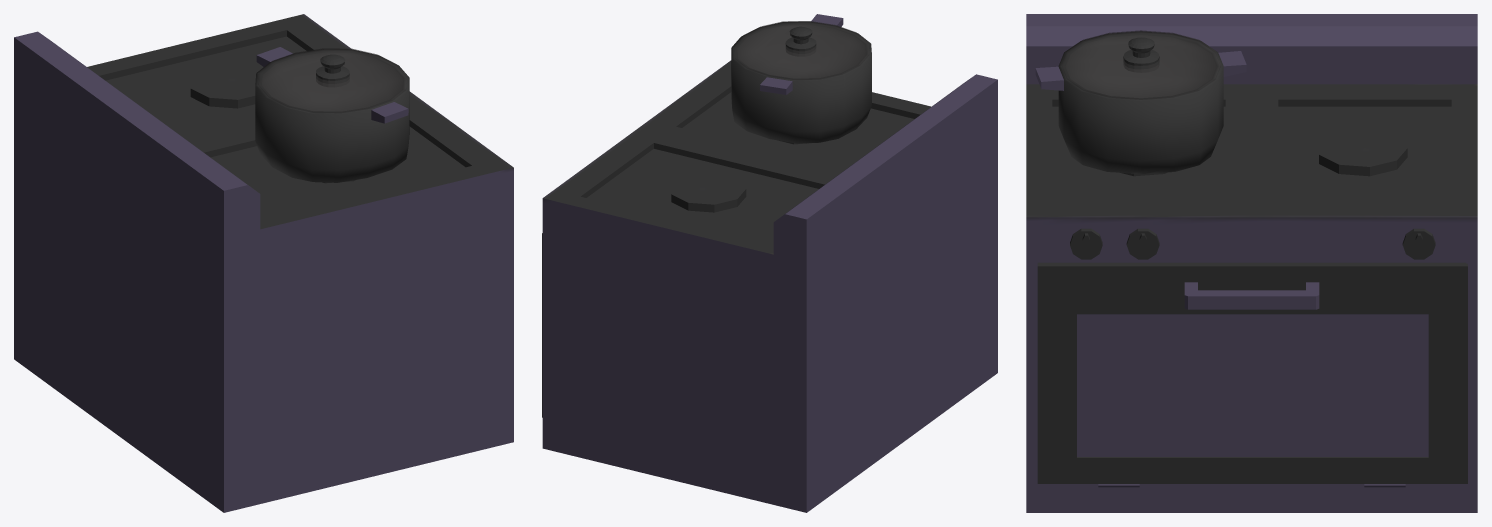
File: Station_Cooking.fbx
3 views of the same model, side by side, from view 1: azimuth 30°, elevation 25°; view 2: azimuth 150°, elevation 25°; view 3: azimuth 270°, elevation 25° (orthographic). The views are drawn at different scales.
Visible parts, largest first — view 1: Oven, OvenPot, OvenPotHandle; view 2: Oven, OvenPot, OvenPotHandle; view 3: Oven, OvenDoor, OvenPot, OvenPotHandle, OvenPerilla1, OvenPerilla2, OvenPerillaDown.
Boxes of the visible parts, x1,y1,x2,y2 form: Oven: (14, 14, 513, 512); OvenPot: (255, 47, 409, 182); OvenPotHandle: (258, 48, 406, 112); Oven: (542, 60, 997, 512); OvenPot: (731, 14, 871, 143); OvenPotHandle: (733, 21, 869, 79); Oven: (1026, 14, 1477, 512); OvenDoor: (1037, 262, 1467, 483); OvenPot: (1035, 31, 1246, 173); OvenPotHandle: (1061, 30, 1220, 99); OvenPerilla1: (1070, 228, 1102, 259); OvenPerilla2: (1126, 228, 1159, 259); OvenPerillaDown: (1402, 228, 1435, 259).
Size of the model in its own units: 31.34 by 35.11 by 35.41.
